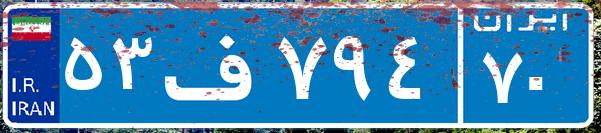0: (525, 38, 570, 115)
3: (110, 28, 158, 105)
4: (385, 28, 445, 110)
5: (57, 26, 110, 107)
7: (273, 28, 330, 110), (475, 38, 525, 113)
9: (330, 28, 385, 110)
ف: (158, 15, 273, 115)
